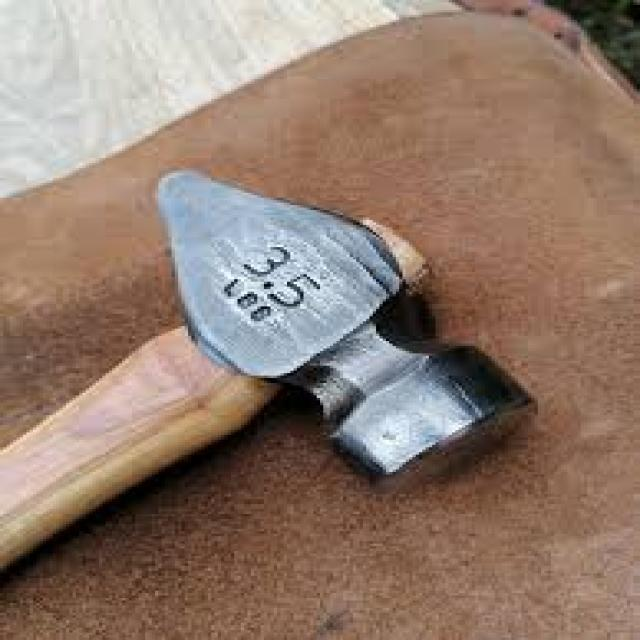hammer: (0, 159, 554, 597)
